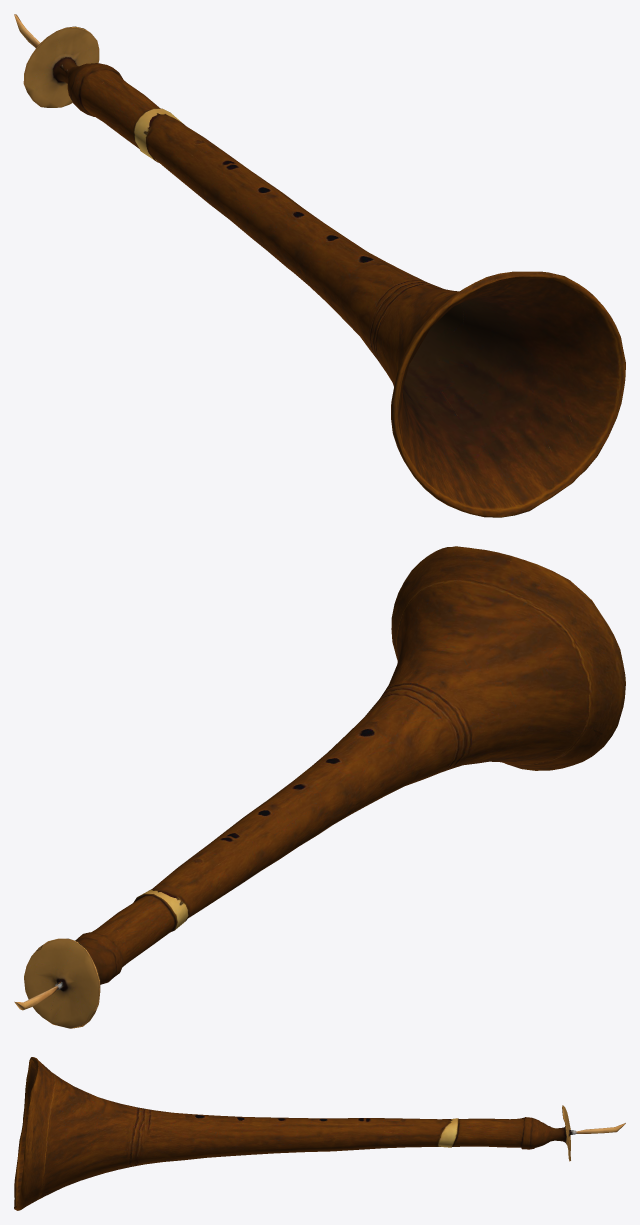
File: zurna.glb
3 views of the same model, one above another, from view 1: azimuth 30°, elevation 25°; view 2: azimuth 150°, elevation 25°; view 3: azimuth 270°, elevation 25° (orthographic). The views are drawn at different scales.
Visible parts, largest first — view 1: geometry_0; view 2: geometry_0; view 3: geometry_0.
Boxes of the visible parts, x1=… form: geometry_0: x1=14, y1=14, x2=625, y2=517; geometry_0: x1=14, y1=546, x2=625, y2=1028; geometry_0: x1=14, y1=1057, x2=625, y2=1210.
Size of the model in its own units: 0.1169 by 0.1098 by 0.44.
Materials: 1 (1 with a texture image).
